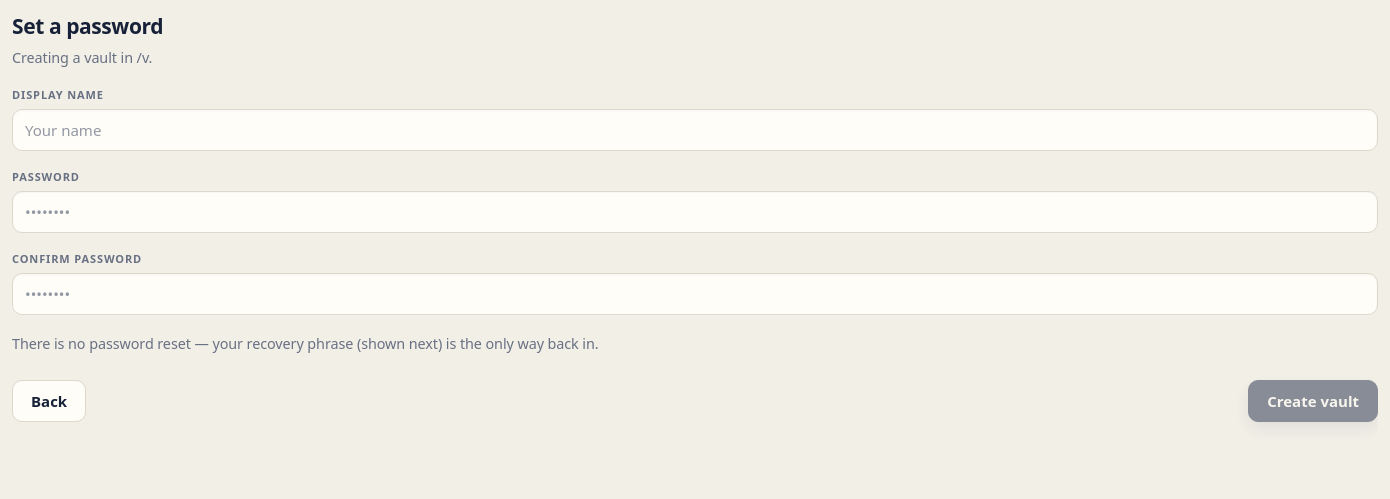
Test: CredentialsStep › shows a mismatch message and keeps Create disabled
Type "Me" into the field labelled "Display name" at [695, 130], box x1=12 y1=109 x2=1378 y2=151
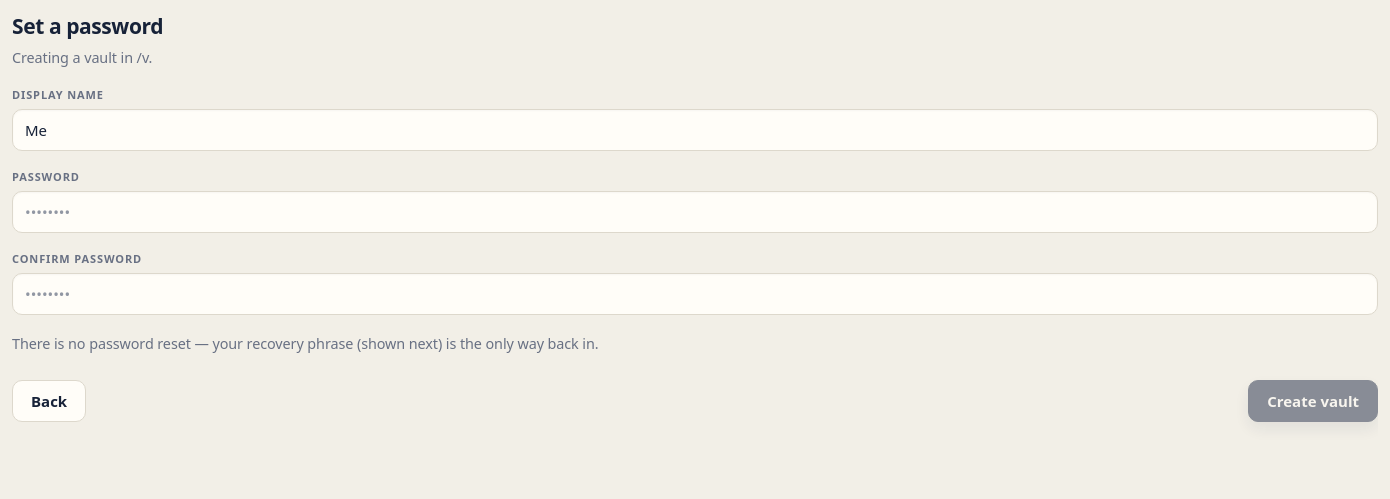
Type "hunter2" into the password field labelled "Password" at [695, 212], box x1=12 y1=191 x2=1378 y2=233
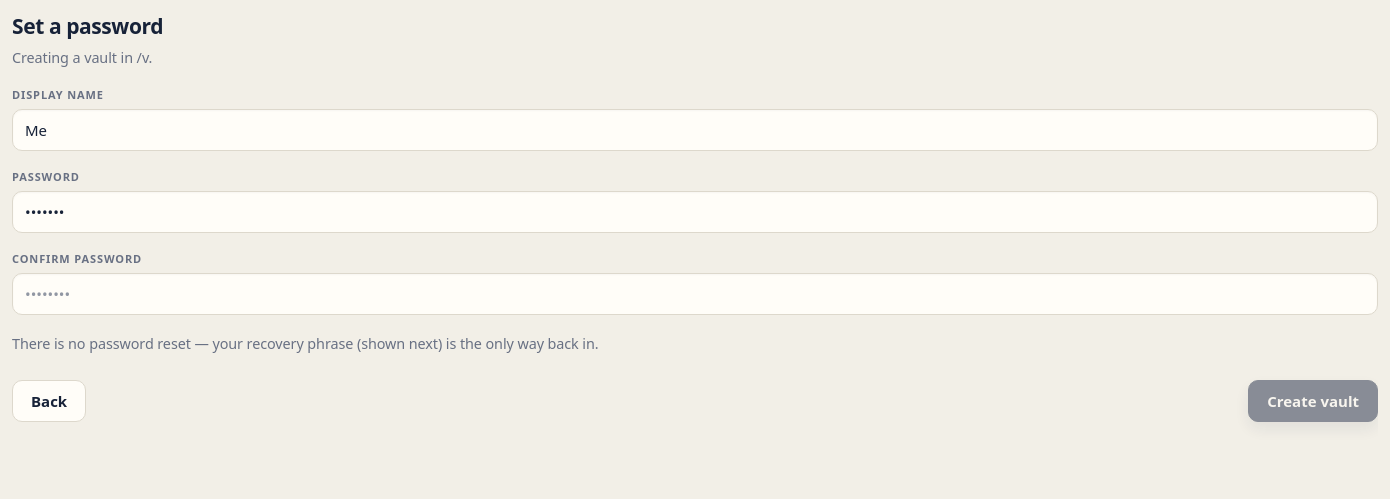
Type "hunterX" into the password field labelled "Confirm password" at [695, 294], box x1=12 y1=273 x2=1378 y2=315
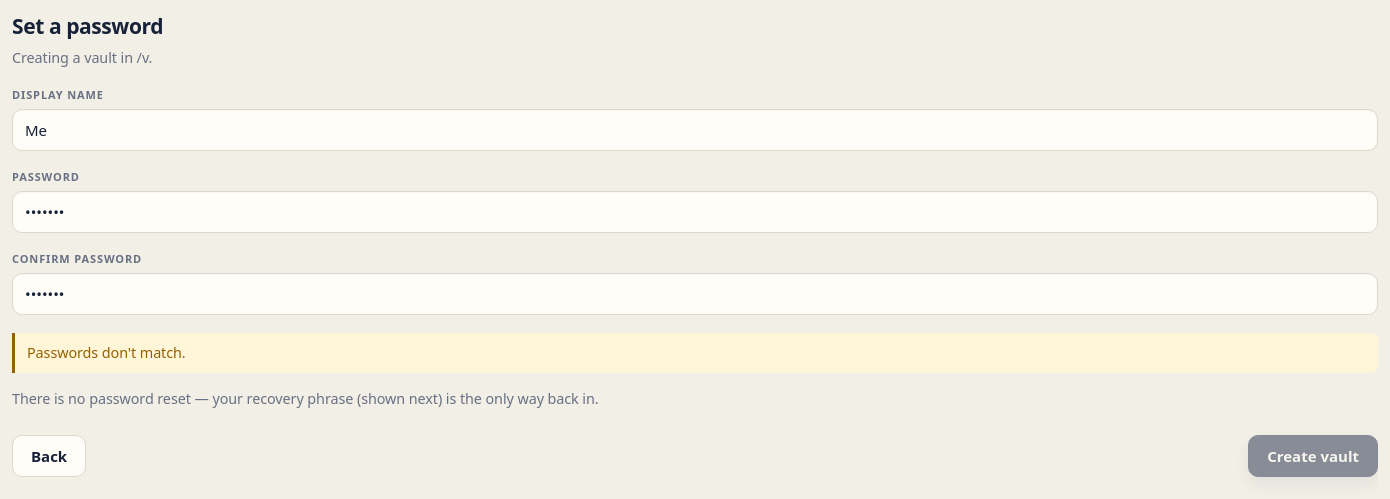
Expected: the button "Create vault" is disabled, x1=1248 y1=436 x2=1378 y2=478
Now the text "Passwords don't match." is shown, box x1=12 y1=333 x2=1378 y2=374
